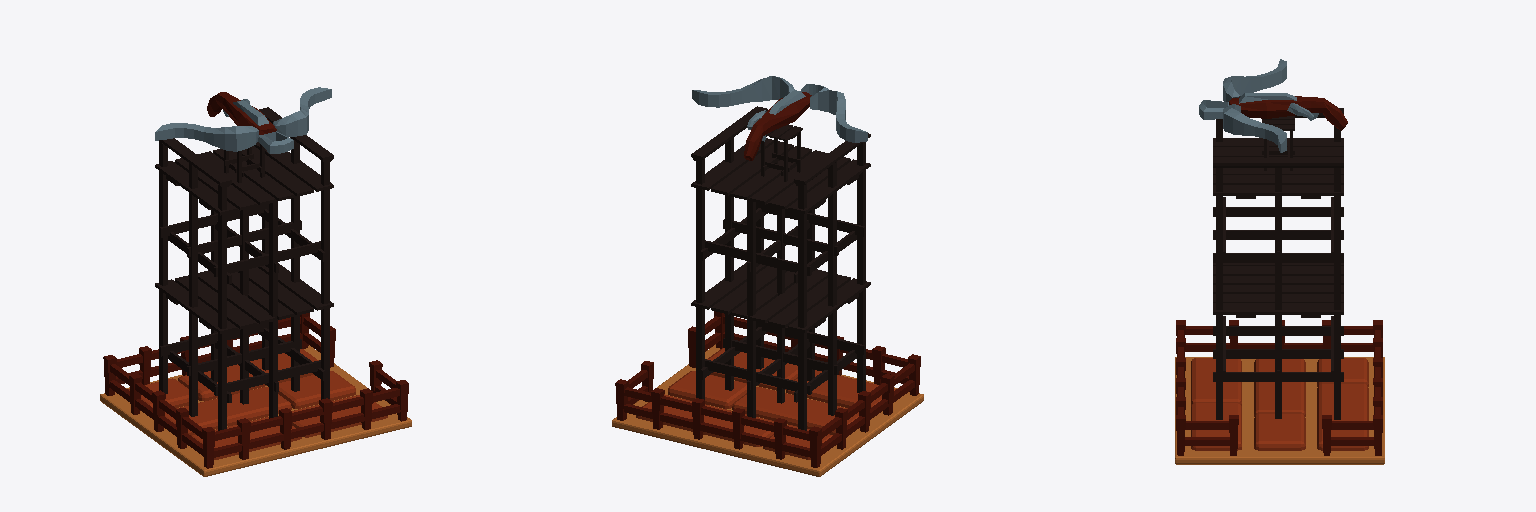
The model's file is nature_tower.obj.
3 views of the same model, side by side, from view 1: azimuth 30°, elevation 25°; view 2: azimuth 150°, elevation 25°; view 3: azimuth 270°, elevation 25° (orthographic).
Visible parts, largest first — view 1: mergedBlocks; view 2: mergedBlocks; view 3: mergedBlocks.
Boxes of the visible parts, <box> form: mergedBlocks: <box>100,87,411,476</box>; mergedBlocks: <box>612,76,923,476</box>; mergedBlocks: <box>1175,59,1384,464</box>.
Size of the model in its own units: 1.47 by 2.13 by 1.28.